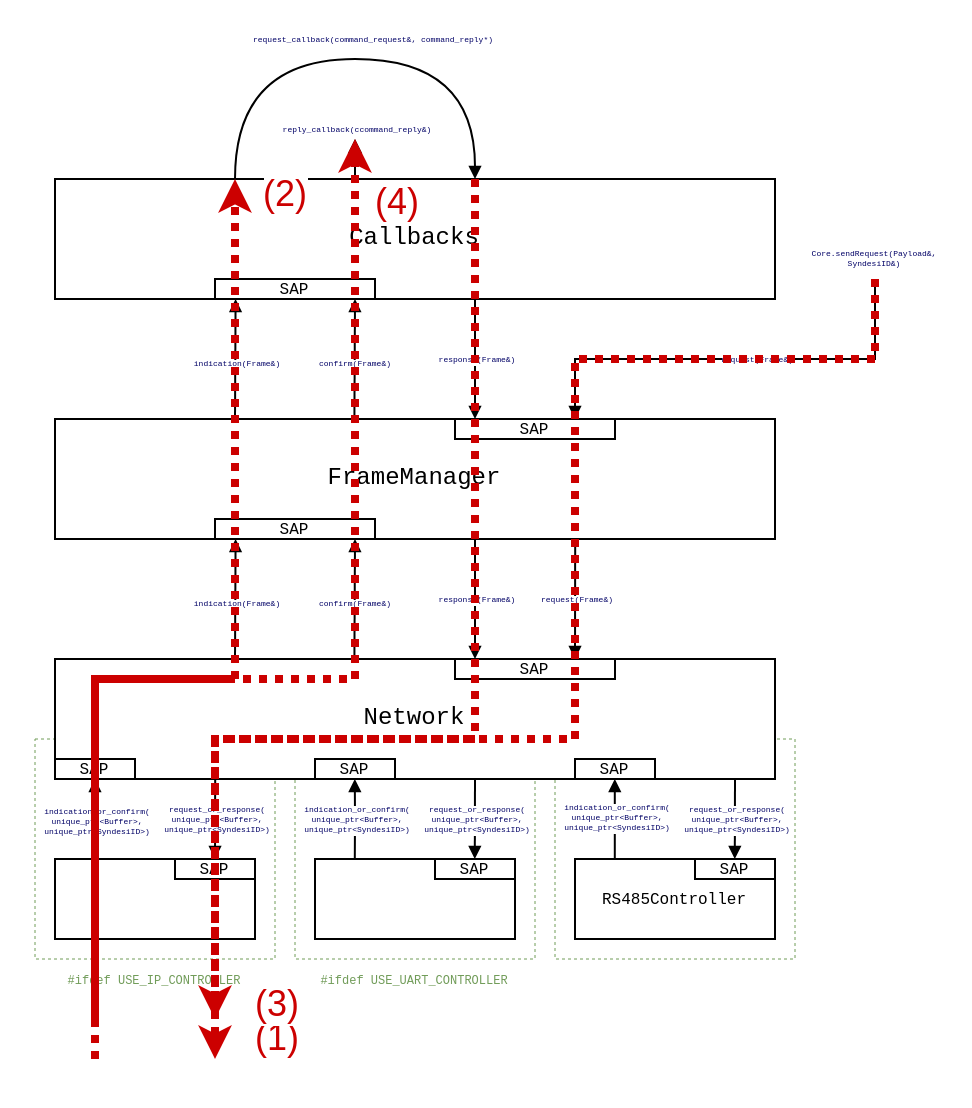
Image size: 972x1108. Some labels were removed from this diagram. The box of each missing label's shape, as (x1, y1, x2, y2) in pixels:
#ifdef USE_RS485_CONTROLLER: (554, 738, 795, 959)
IPController: (53, 857, 255, 939)
UARTController: (313, 857, 515, 939)
